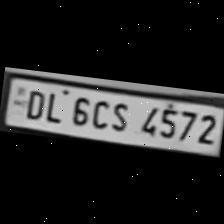2: (192, 108, 218, 146)
4: (134, 102, 161, 138)
5: (154, 103, 178, 140)
6: (65, 92, 91, 126)
7: (174, 106, 196, 144)
C: (88, 95, 112, 130)
D: (19, 85, 46, 120)
L: (42, 88, 66, 124)
S: (105, 98, 132, 134)
